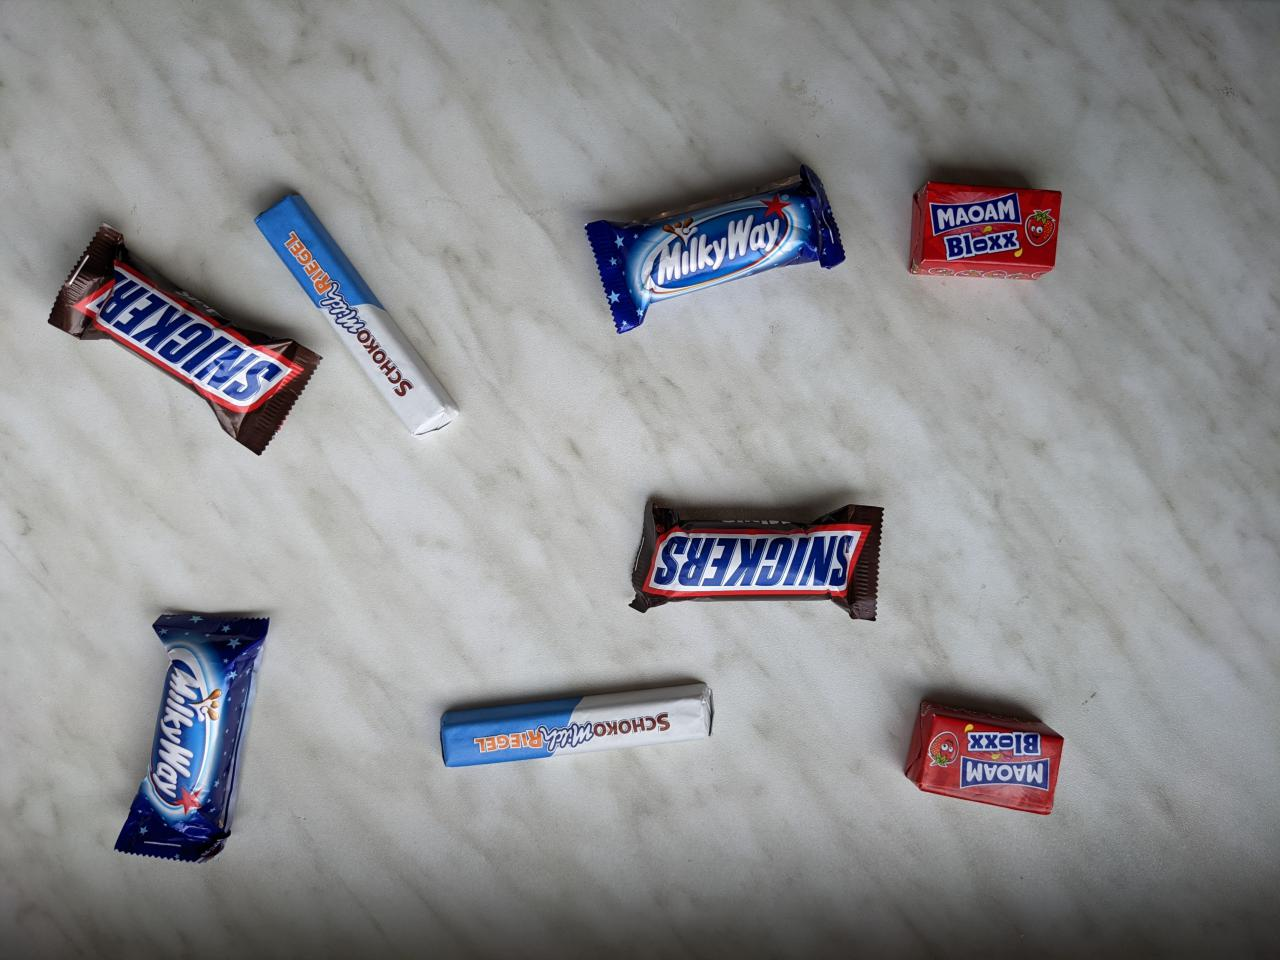MAOAM: (899, 694, 1069, 823), (902, 176, 1067, 284)
MilkyWay: (580, 159, 856, 343), (109, 605, 279, 869)
Schokoriegel: (250, 186, 465, 448), (435, 676, 722, 773)
Snickers: (43, 216, 328, 462), (623, 497, 890, 626)
